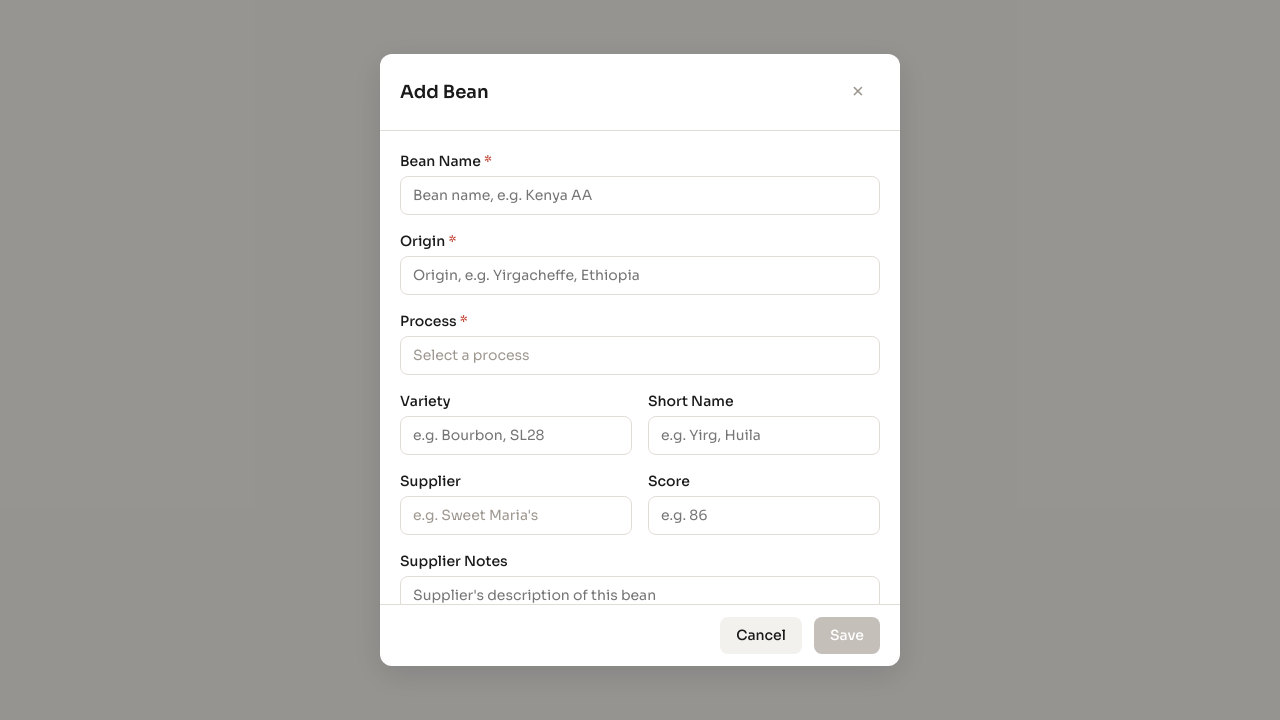
Scenario: AddBeanModal › enables Save when required fields are filled
This screenshot has width=1280, height=720.
Step 1. Type "Test Bean" into the field with placeholder "Bean name, e.g. Kenya AA" → (640, 196), box [400,176,880,215]
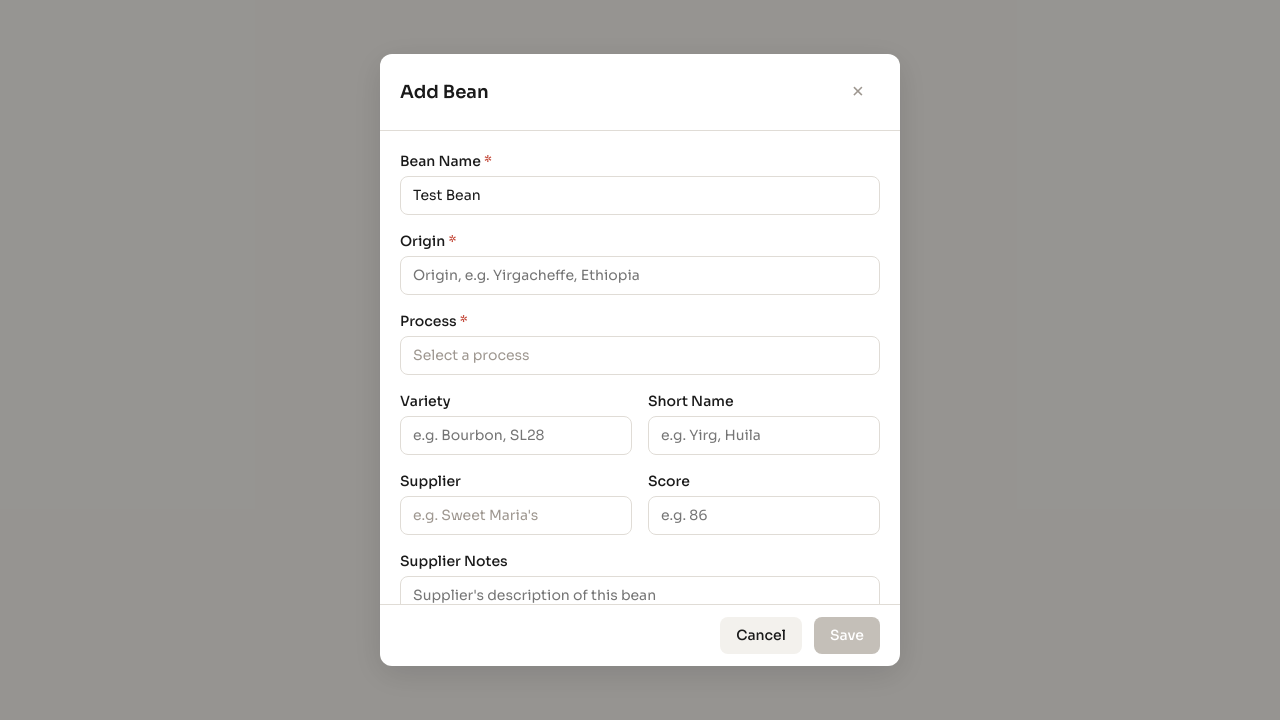
Step 2. Type "Colombia" into the field with placeholder "Origin, e.g. Yirgacheffe, Ethiopia" → (640, 276), box [400,256,880,295]
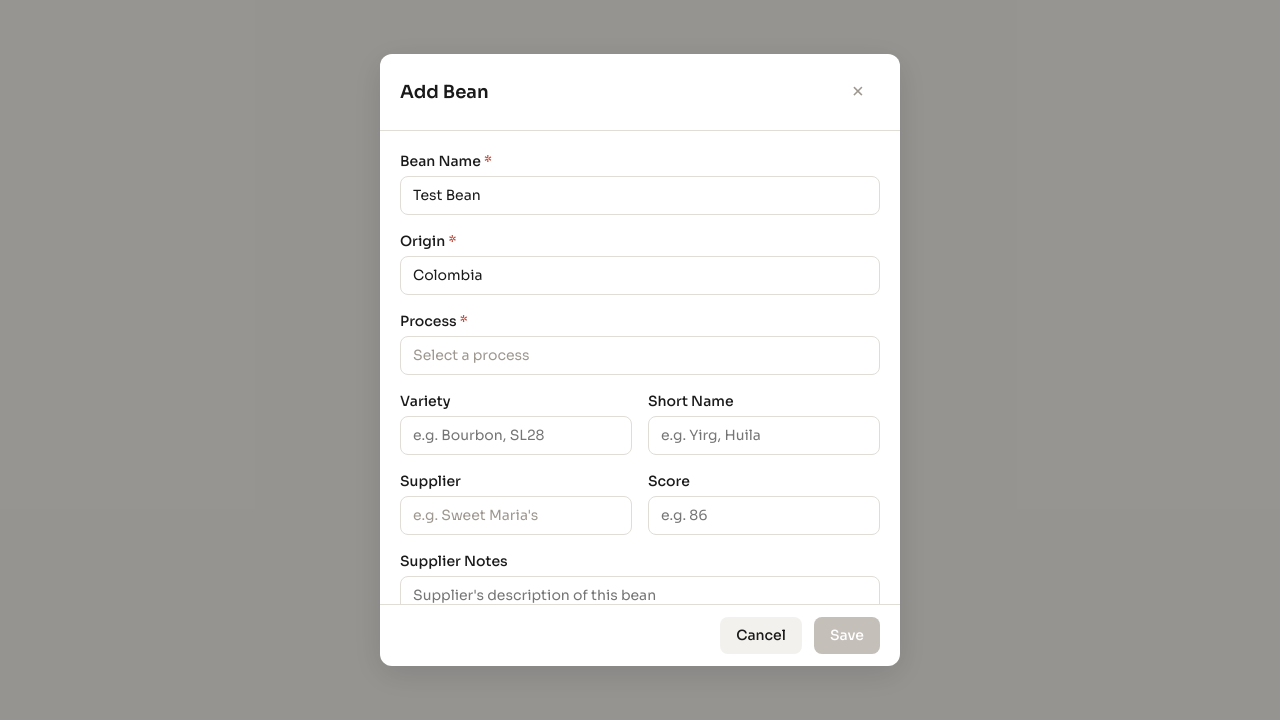
Step 3. Click the dropdown with placeholder "Select a process" → (640, 356), box [400,336,880,375]
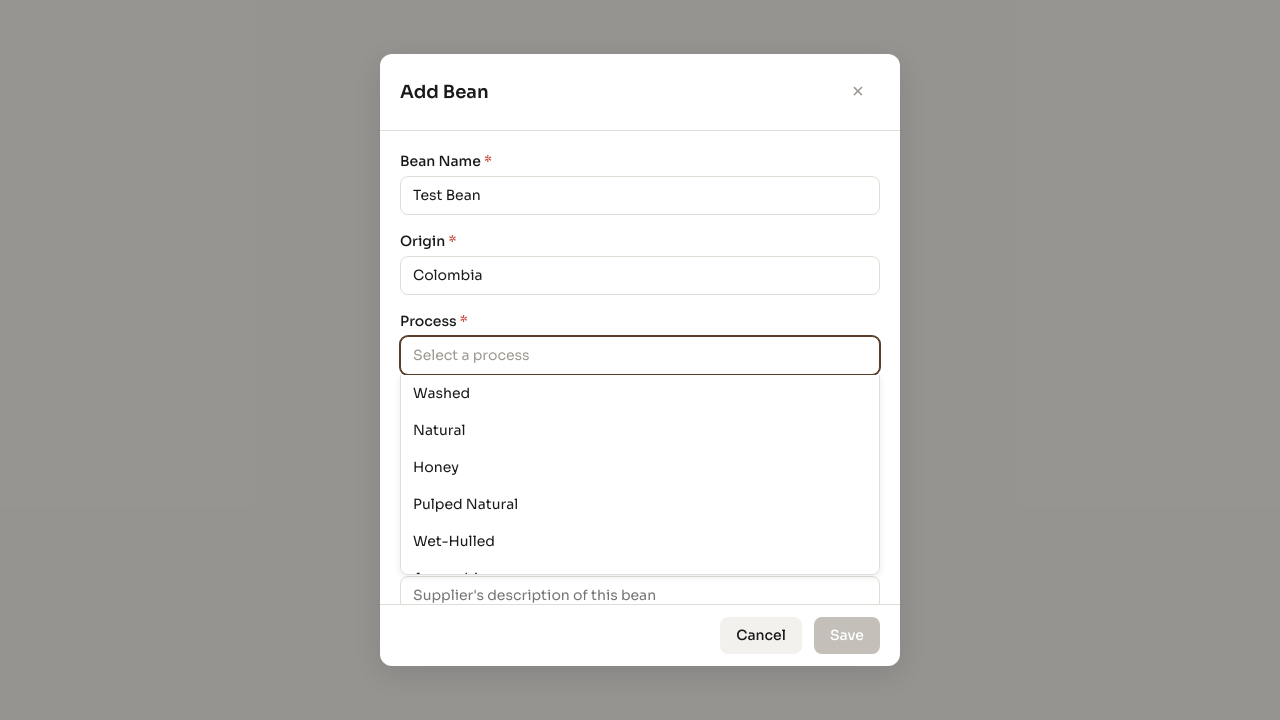
Step 4. Click the option "Washed" → (442, 393), box [413,384,470,402]
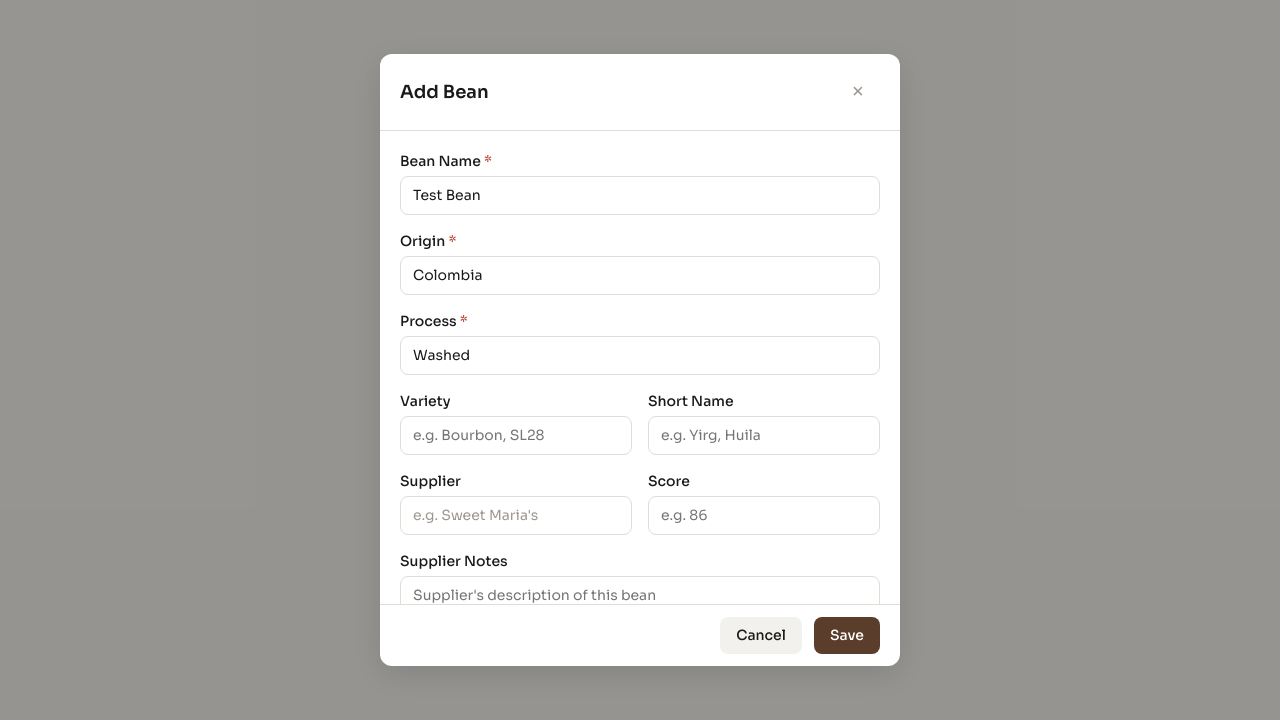
Expected: the button "Save" is enabled, [814,617,880,654]
